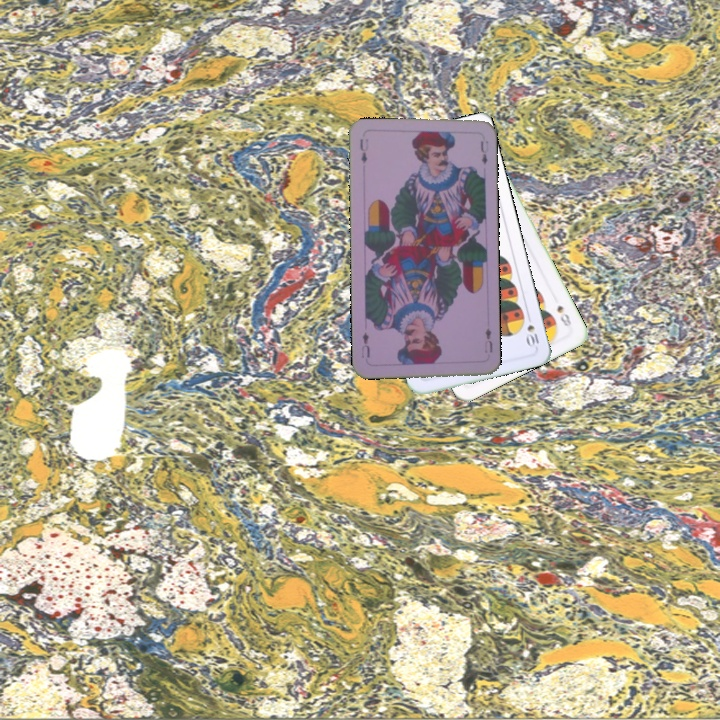EU: (480, 324, 495, 355), (356, 135, 371, 165)
S10: (522, 310, 542, 350)
S8: (553, 301, 574, 331)
